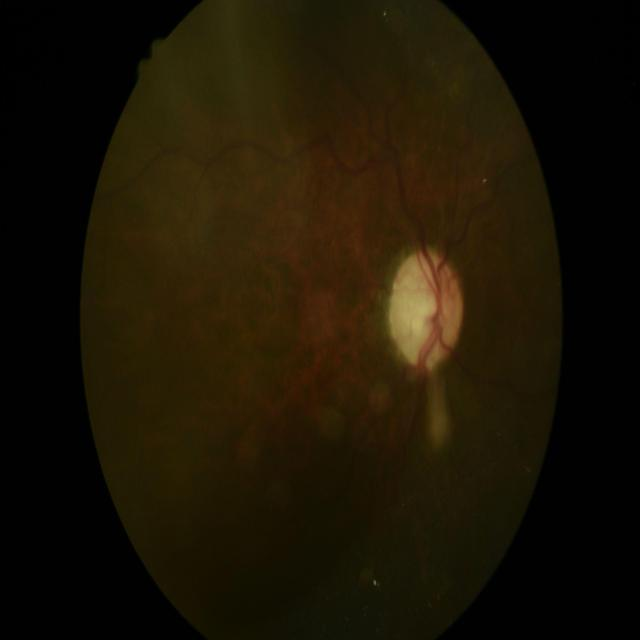cup: (399, 261, 452, 356)
disk: (388, 248, 466, 371)
